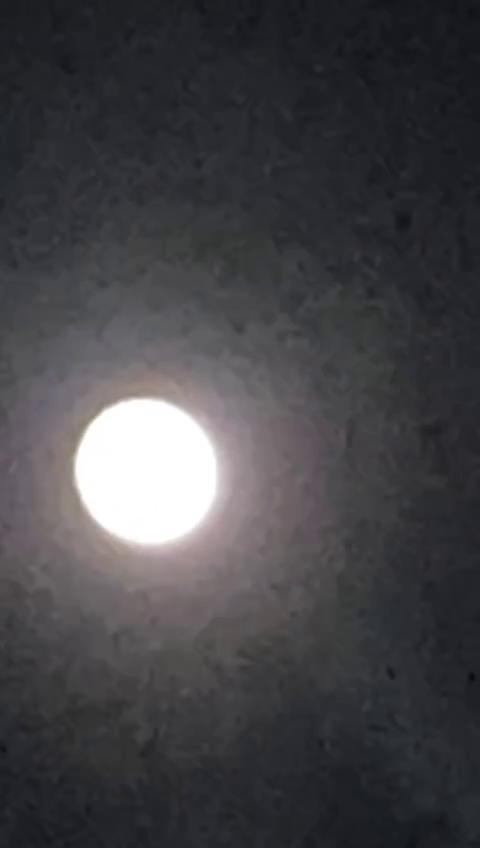moon: (82, 426, 248, 618)
